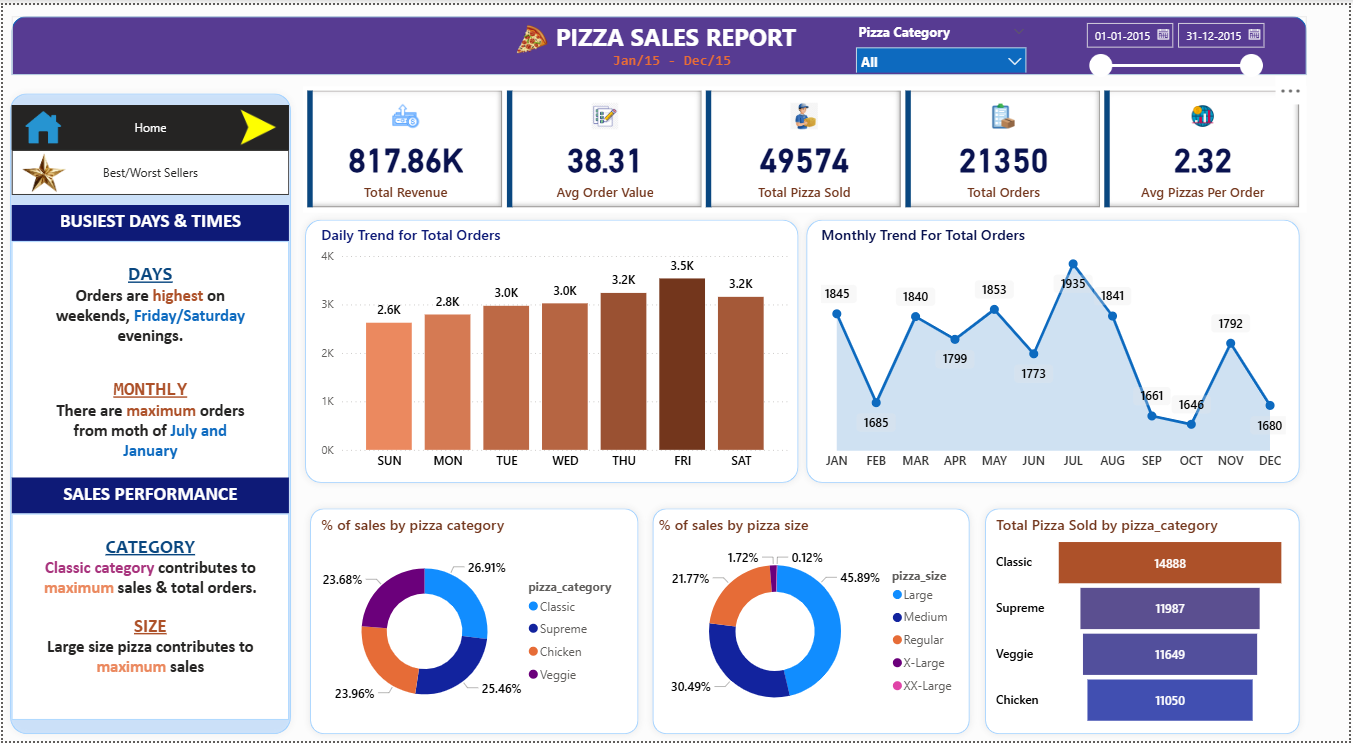

What the dashboard file says about the page in this screenshot:
{"tool":"powerbi","page":{"name":"Home","canvas":[1500,820],"ordinal":0},"visuals":[{"type":"cardVisual","fields":{"Data":["pizza_sales.Total Revenue","pizza_sales.Avg Order Value","pizza_sales.Total Pizza Sold","pizza_sales.Total Orders","pizza_sales.Avg Pizzas Per Order"]},"box":[334.2,90.5,1118.3,140.7],"z":0},{"type":"shape","box":[9.7,12.5,1442.8,65.5],"z":1000},{"type":"textbox","box":[600,12.5,298.8,51.2],"z":2000},{"type":"textbox","box":[662.5,47.5,165,31.2],"z":3000},{"type":"image","box":[562.5,8.8,51.2,60],"z":4000},{"type":"shape","box":[328.7,231.2,565.4,309.2],"z":5000},{"type":"columnChart","title":"Daily Trend for Total Orders","fields":{"Category":["pizza_sales.Order Day"],"Y":["pizza_sales.Total Orders"]},"box":[349.6,243.7,530.6,284.1],"z":6000},{"type":"shape","box":[887.1,231.2,565.4,309.2],"z":7000},{"type":"areaChart","title":"Monthly Trend For Total Orders","fields":{"Category":["pizza_sales.Order Month"],"Y":["pizza_sales.Total Orders"]},"box":[906.6,243.7,527.8,284.1],"z":8000},{"type":"shape","box":[334.2,552.9,381.6,267.4],"z":9000},{"type":"shape","box":[715.8,552.9,369.1,267.4],"z":10000},{"type":"shape","box":[1086.3,552.9,366.3,267.4],"z":11000},{"type":"donutChart","title":"% of sales by pizza category","fields":{"Category":["pizza_sales.pizza_category"],"Y":["pizza_sales.Total Revenue"]},"box":[349.6,566.8,349.6,240.9],"z":12000},{"type":"donutChart","title":"% of sales by pizza size","fields":{"Y":["pizza_sales.Total Revenue"],"Category":["pizza_sales.pizza_size"]},"box":[725.6,566.8,349.6,240.9],"z":13000},{"type":"funnel","fields":{"Category":["pizza_sales.pizza_category"],"Y":["pizza_sales.Total Pizza Sold"]},"box":[1101.6,566.8,332.8,240.9],"z":14000},{"type":"shape","box":[0,90.5,328.7,729.8],"z":15000},{"type":"textbox","box":[9.7,222.8,309.2,40.4],"z":16000},{"type":"textbox","box":[9.7,263.2,309.2,264.6],"z":17000},{"type":"textbox","box":[9.7,526.4,309.2,40.4],"z":18000},{"type":"textbox","box":[9.7,566.8,309.2,229.8],"z":19000},{"type":"slicer","fields":{"Values":["pizza_sales.pizza_category"]},"box":[940.1,15.3,210.3,59.9],"z":20000},{"type":"slicer","fields":{"Values":["pizza_sales.order_date"]},"box":[1194.9,9.7,217.3,75.2],"z":21000},{"type":"pageNavigator","box":[9.7,111.4,309.2,50.1],"z":22000},{"type":"pageNavigator","box":[9.7,161.5,309.2,50.1],"z":23000},{"type":"image","box":[249.3,111.4,69.6,50.1],"z":23001},{"type":"image","box":[9.7,105.8,71,61.3],"z":23002},{"type":"image","box":[4.2,156,83.6,62.7],"z":23003}]}

Visuals, with their boxes in screenshot pixels (x1, y1, x2, y2), scaled from the page's 1500x820 canvas onto the 1353x743 screenshot:
cardVisual - pizza_sales.Total Revenue x pizza_sales.Avg Order Value: 301 82 1310 209
shape: 9 11 1310 71
textbox: 541 11 811 58
textbox: 598 43 746 71
image: 507 8 554 62
shape: 296 209 806 490
"Daily Trend for Total Orders" columnChart: 315 221 794 478
shape: 800 209 1310 490
"Monthly Trend For Total Orders" areaChart: 818 221 1294 478
shape: 301 501 646 742
shape: 646 501 979 742
shape: 980 501 1310 742
"% of sales by pizza category" donutChart: 315 514 631 732
"% of sales by pizza size" donutChart: 654 514 970 732
funnel - pizza_sales.pizza_category x pizza_sales.Total Pizza Sold: 994 514 1294 732
shape: 0 82 296 742
textbox: 9 202 288 238
textbox: 9 238 288 478
textbox: 9 477 288 514
textbox: 9 514 288 722
slicer - pizza_sales.pizza_category: 848 14 1038 68
slicer - pizza_sales.order_date: 1078 9 1274 77
pageNavigator: 9 101 288 146
pageNavigator: 9 146 288 192
image: 225 101 288 146
image: 9 96 73 151
image: 4 141 79 198
